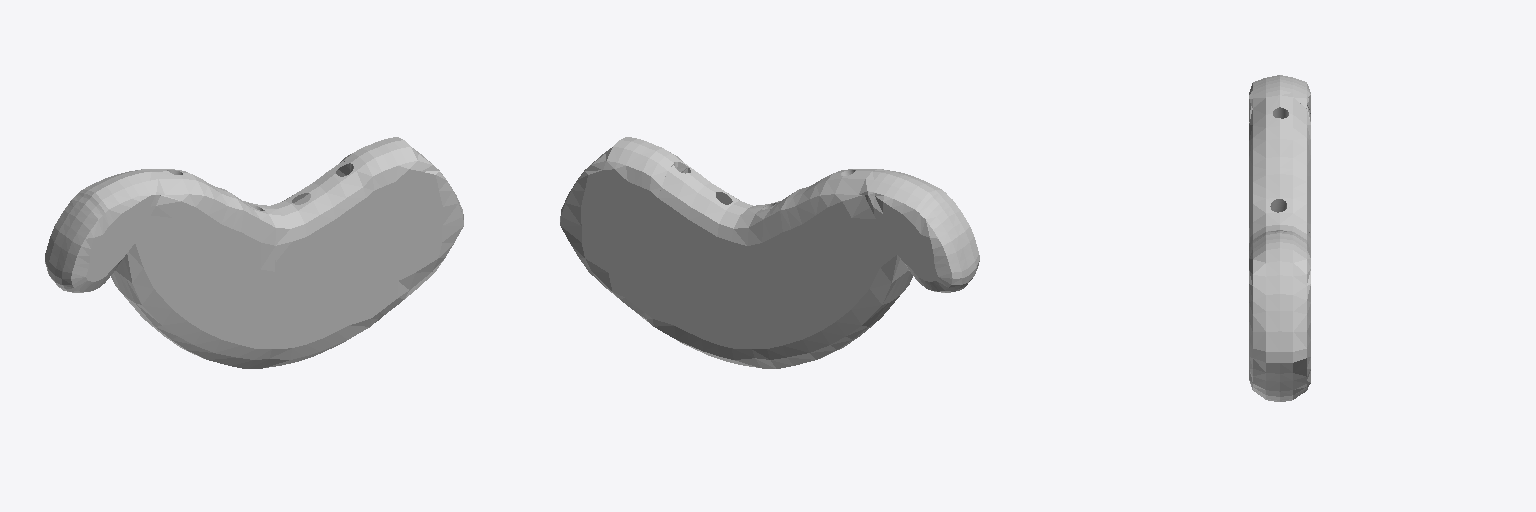
File: tecido_gaita.obj
3 renders of one model, left to right at view 1: azimuth 30°, elevation 25°; view 2: azimuth 150°, elevation 25°; view 3: azimuth 270°, elevation 25°, orthographic.
Parts seen in each view (by area): view 1: Plane; view 2: Plane; view 3: Plane.
Part boxes in pixels (bbox=[...]): Plane: bbox=[45, 137, 463, 368]; Plane: bbox=[560, 137, 979, 368]; Plane: bbox=[1249, 75, 1310, 401].
Size of the model in its own units: 3.14 by 1.66 by 0.4201.